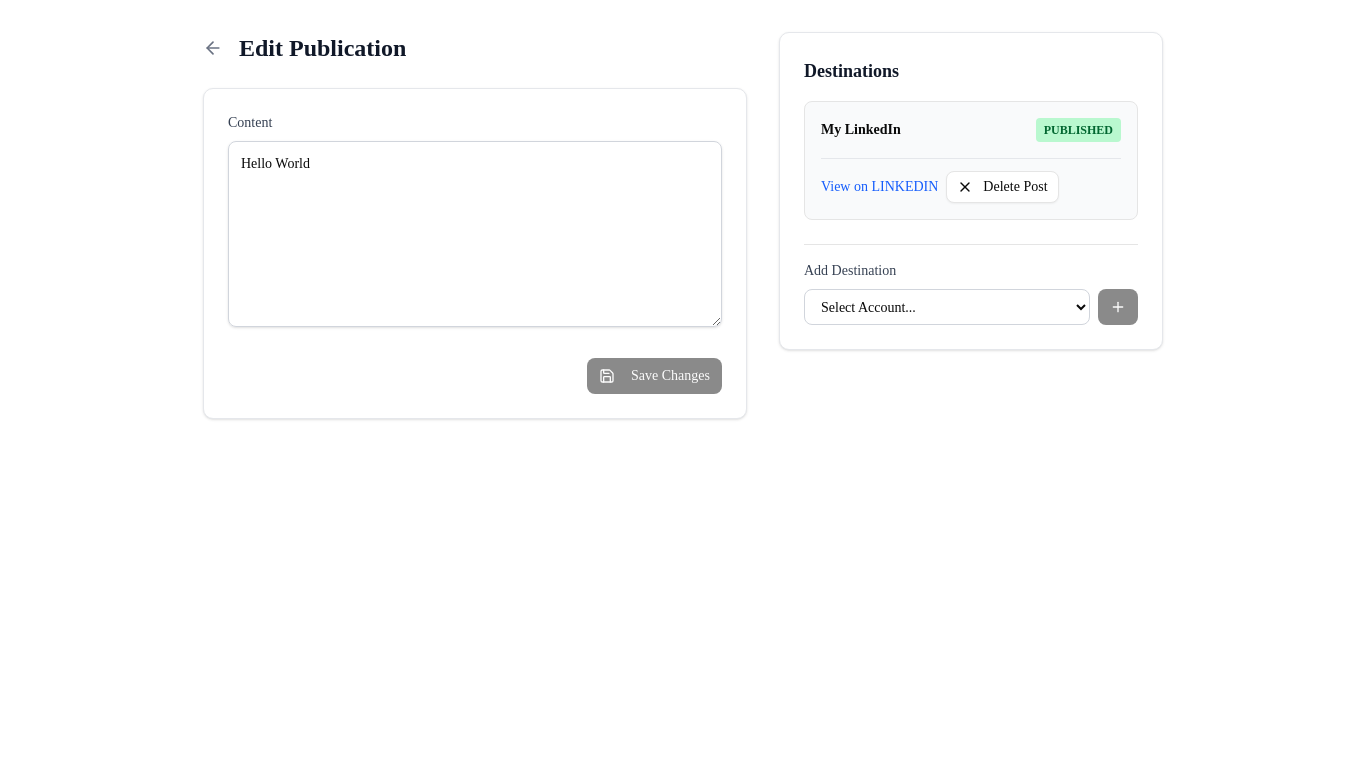
Test: D. cancelling confirmation makes no API request
Click the button "Delete Post": point(1002, 187) [946,171,1059,203]
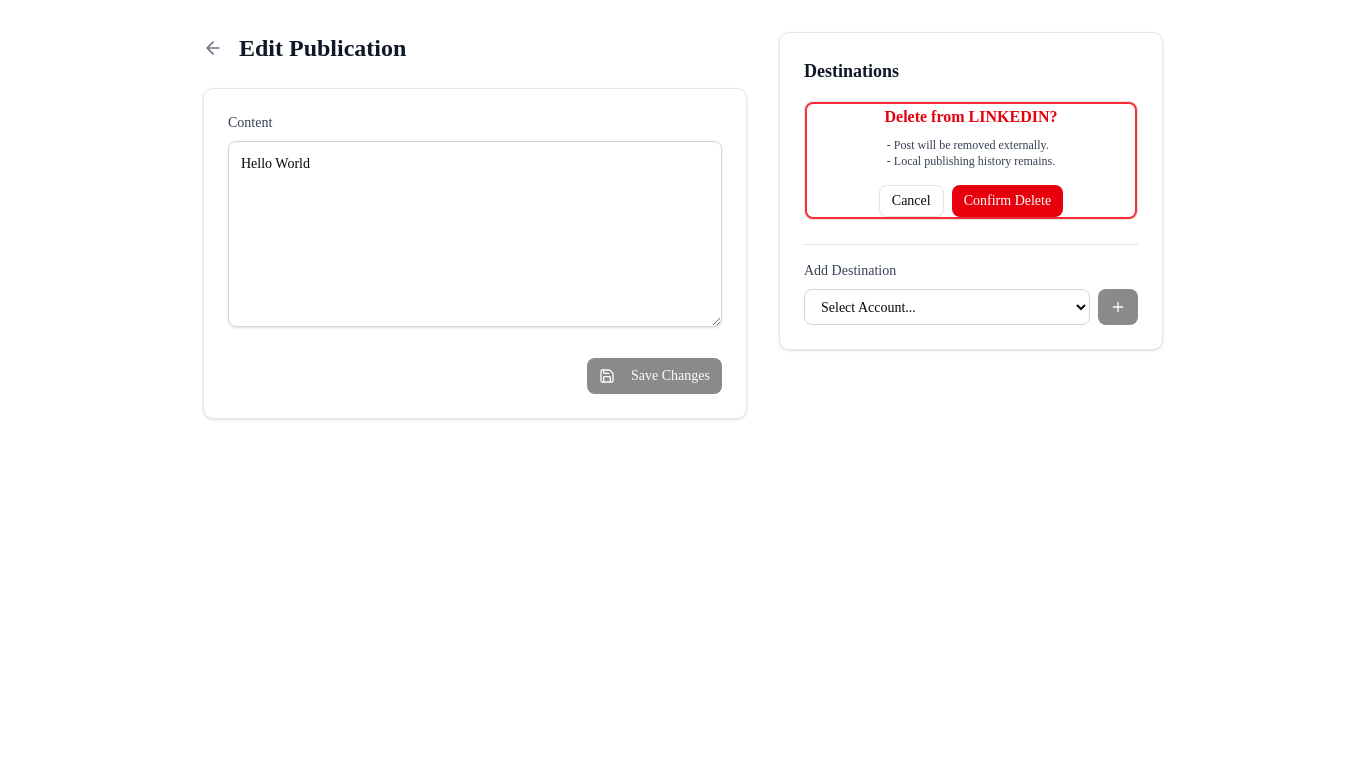
Click the button "Cancel": point(911, 200) [879,184,944,216]
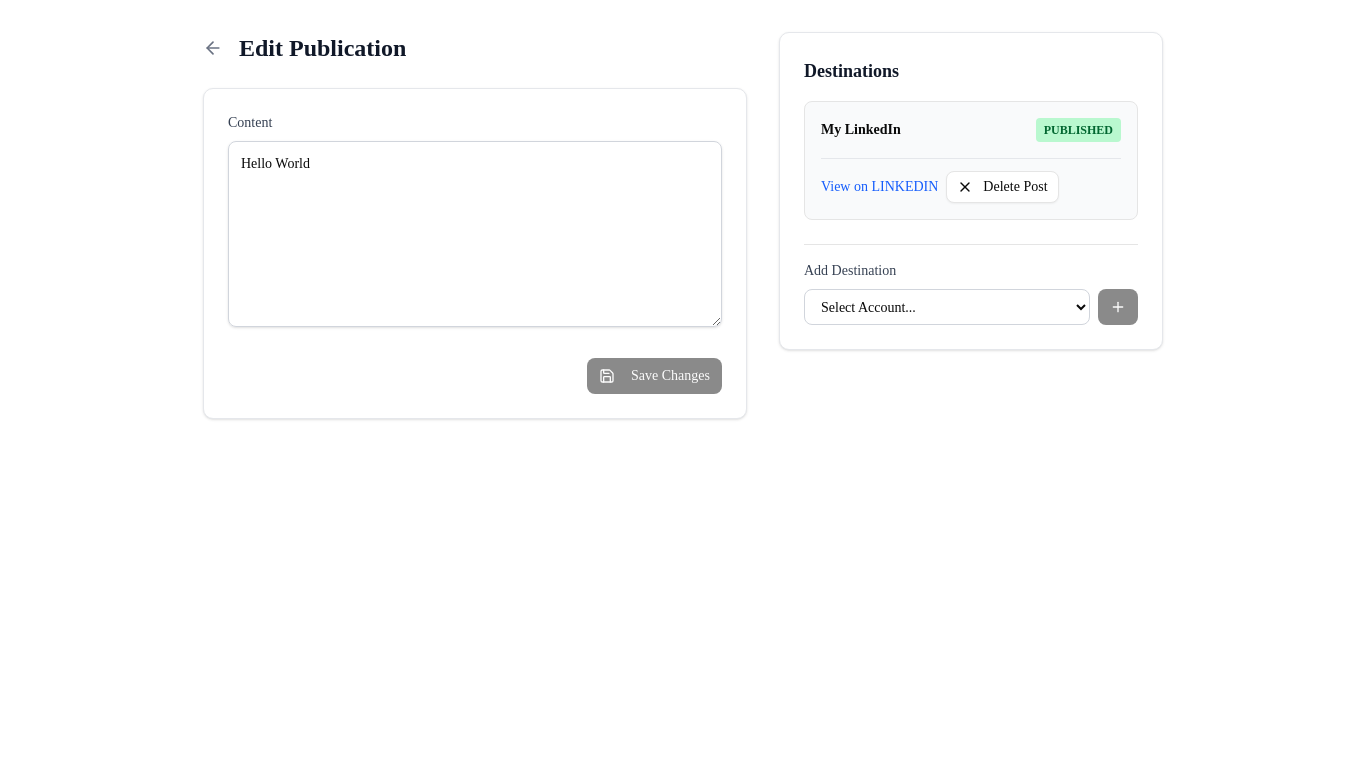
Expected: the text "Delete from LINKEDIN?" is gone
